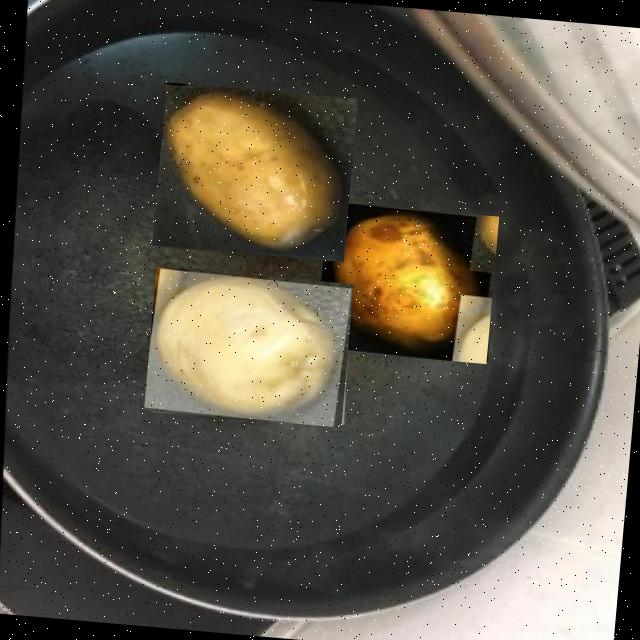Potato: (152, 80, 358, 260), (144, 266, 354, 427), (312, 200, 498, 363)
